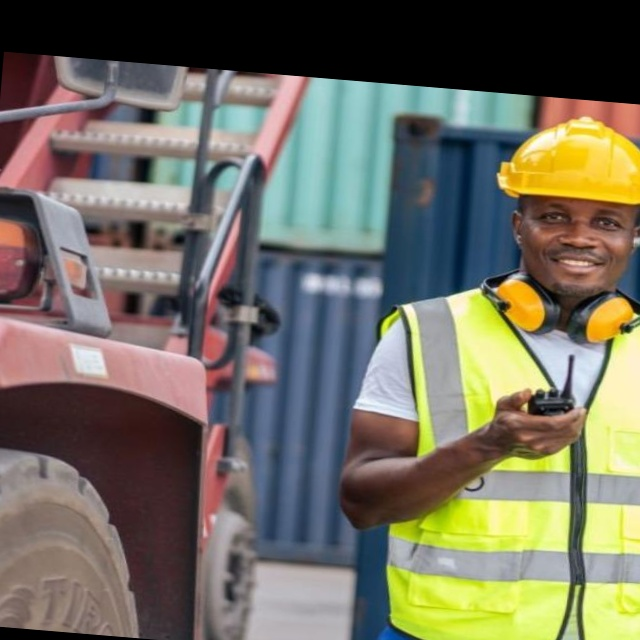Con_Casco: (485, 108, 640, 304)
Con_Chaleco: (351, 281, 640, 640)
